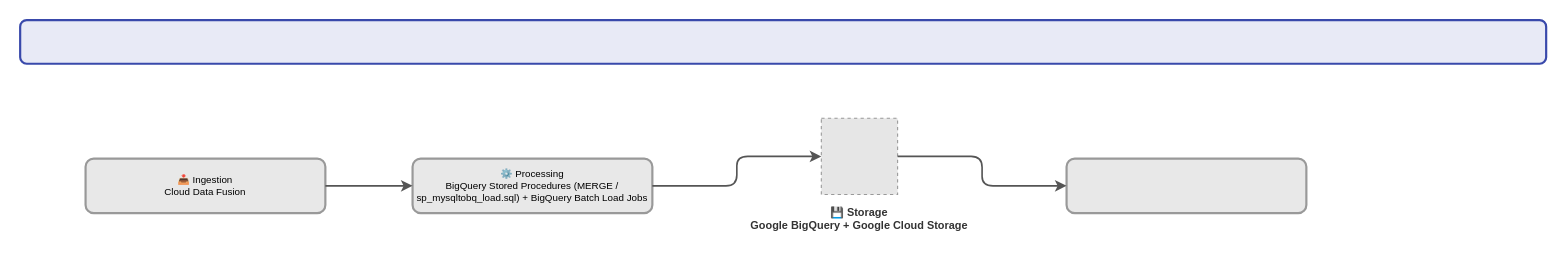
The diagram is 1565 pixels wide and 271 high, and some of its shapes have lost their labels. Grey dashed boxes stand in for pictures. Each missing label, with the centre of its shape:
Data Pipeline Architecture: (783,41)
📊 Consumption Consumption: (1186,185)
